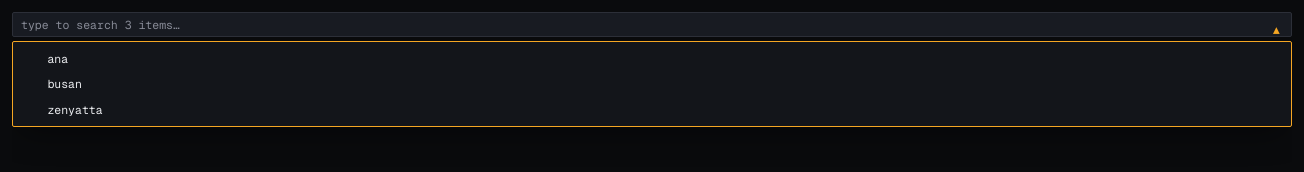
it: TypeaheadDropdown › typeahead filtering › matches by prefix (case-insensitive), not substring
Type "AN" into the dropdown named "Heroes".
click(652, 24); type("AN")  # box [12,12,1292,37]
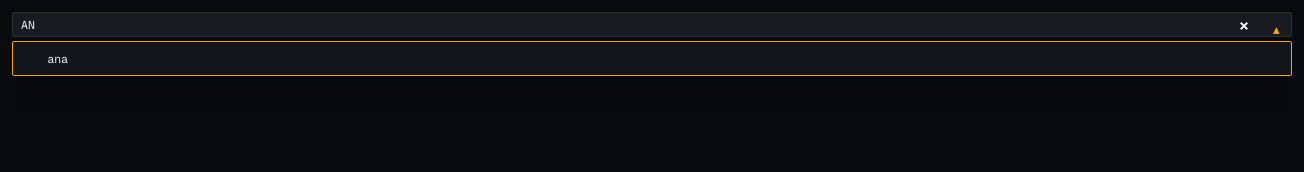
Expected: the option reads "ana", [47,51,68,66]
Now the number of options is 1, box [47,51,68,66]
